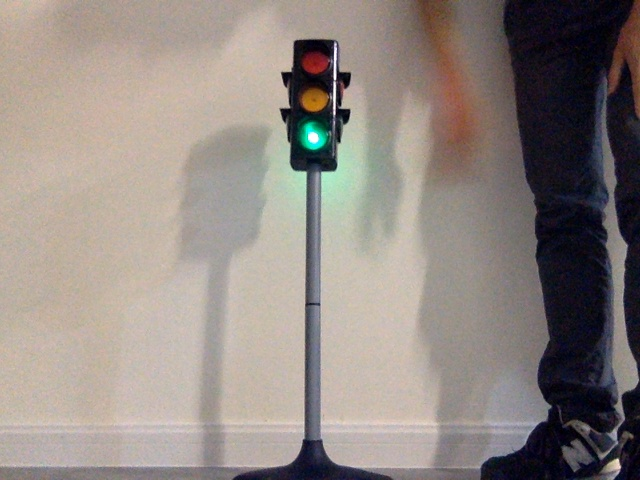green: (295, 43, 331, 151)
